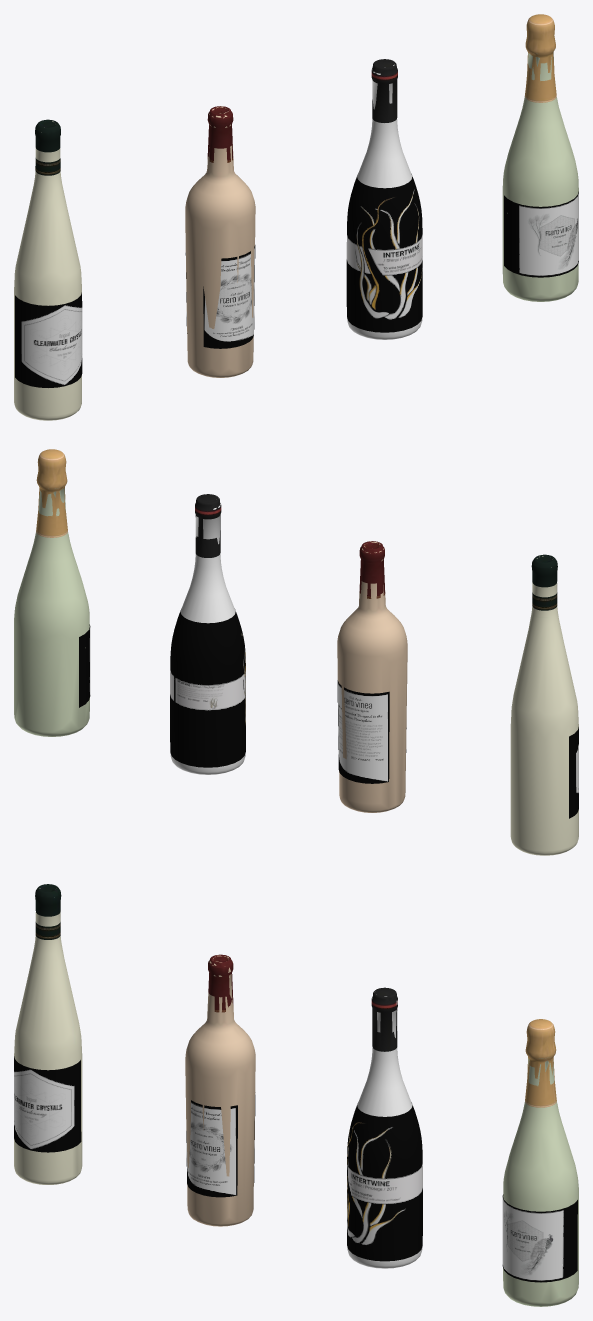
The model's file is wine_bottles_01.glb.
3 views of the same model, one above another, from view 1: azimuth 30°, elevation 25°; view 2: azimuth 150°, elevation 25°; view 3: azimuth 330°, elevation 25° (orthographic).
Visible parts, largest first — view 1: wine_bottles_01_bordeaux, wine_bottles_01_burgundy, wine_bottles_01_alsace, wine_bottles_01_champagne; view 2: wine_bottles_01_bordeaux, wine_bottles_01_burgundy, wine_bottles_01_champagne, wine_bottles_01_alsace; view 3: wine_bottles_01_bordeaux, wine_bottles_01_burgundy, wine_bottles_01_alsace, wine_bottles_01_champagne.
Part boxes in pixels (x1,y1,x2,y2): wine_bottles_01_bordeaux: (14, 14, 578, 420); wine_bottles_01_burgundy: (346, 174, 422, 332); wine_bottles_01_alsace: (15, 292, 82, 387); wine_bottles_01_champagne: (504, 191, 578, 277); wine_bottles_01_bordeaux: (14, 449, 578, 855); wine_bottles_01_burgundy: (170, 609, 245, 767); wine_bottles_01_champagne: (79, 624, 90, 707); wine_bottles_01_alsace: (569, 727, 578, 818); wine_bottles_01_bordeaux: (14, 884, 578, 1306); wine_bottles_01_burgundy: (347, 1102, 422, 1261); wine_bottles_01_alsace: (14, 1056, 81, 1152); wine_bottles_01_champagne: (502, 1194, 577, 1282).
Bounding box in the file's own units: 0.6763 × 0.3314 × 0.0805.
9 materials, 6 textured.
